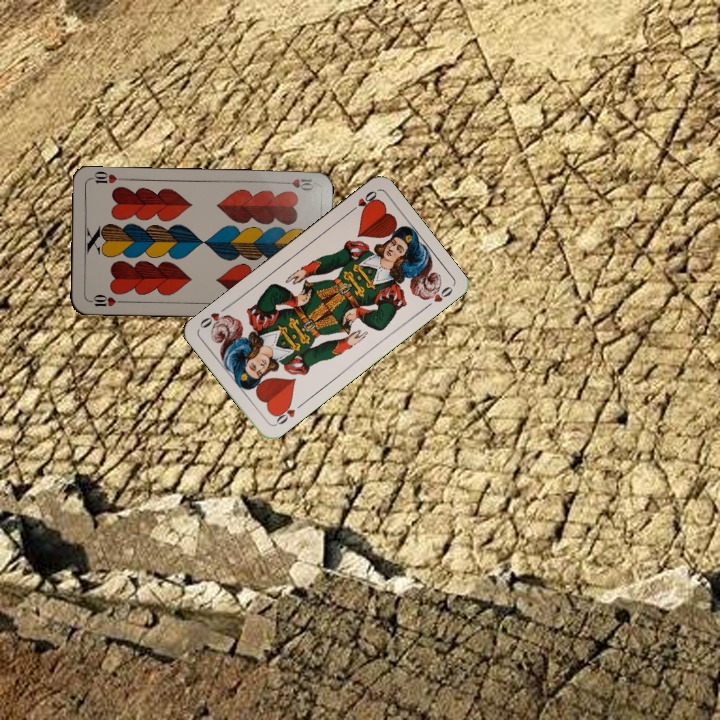H10: (276, 175, 316, 194), (85, 291, 126, 309)
HO: (270, 399, 306, 428), (345, 187, 380, 216)
